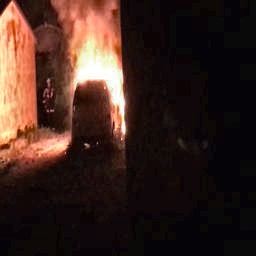fire: (54, 4, 134, 126)
